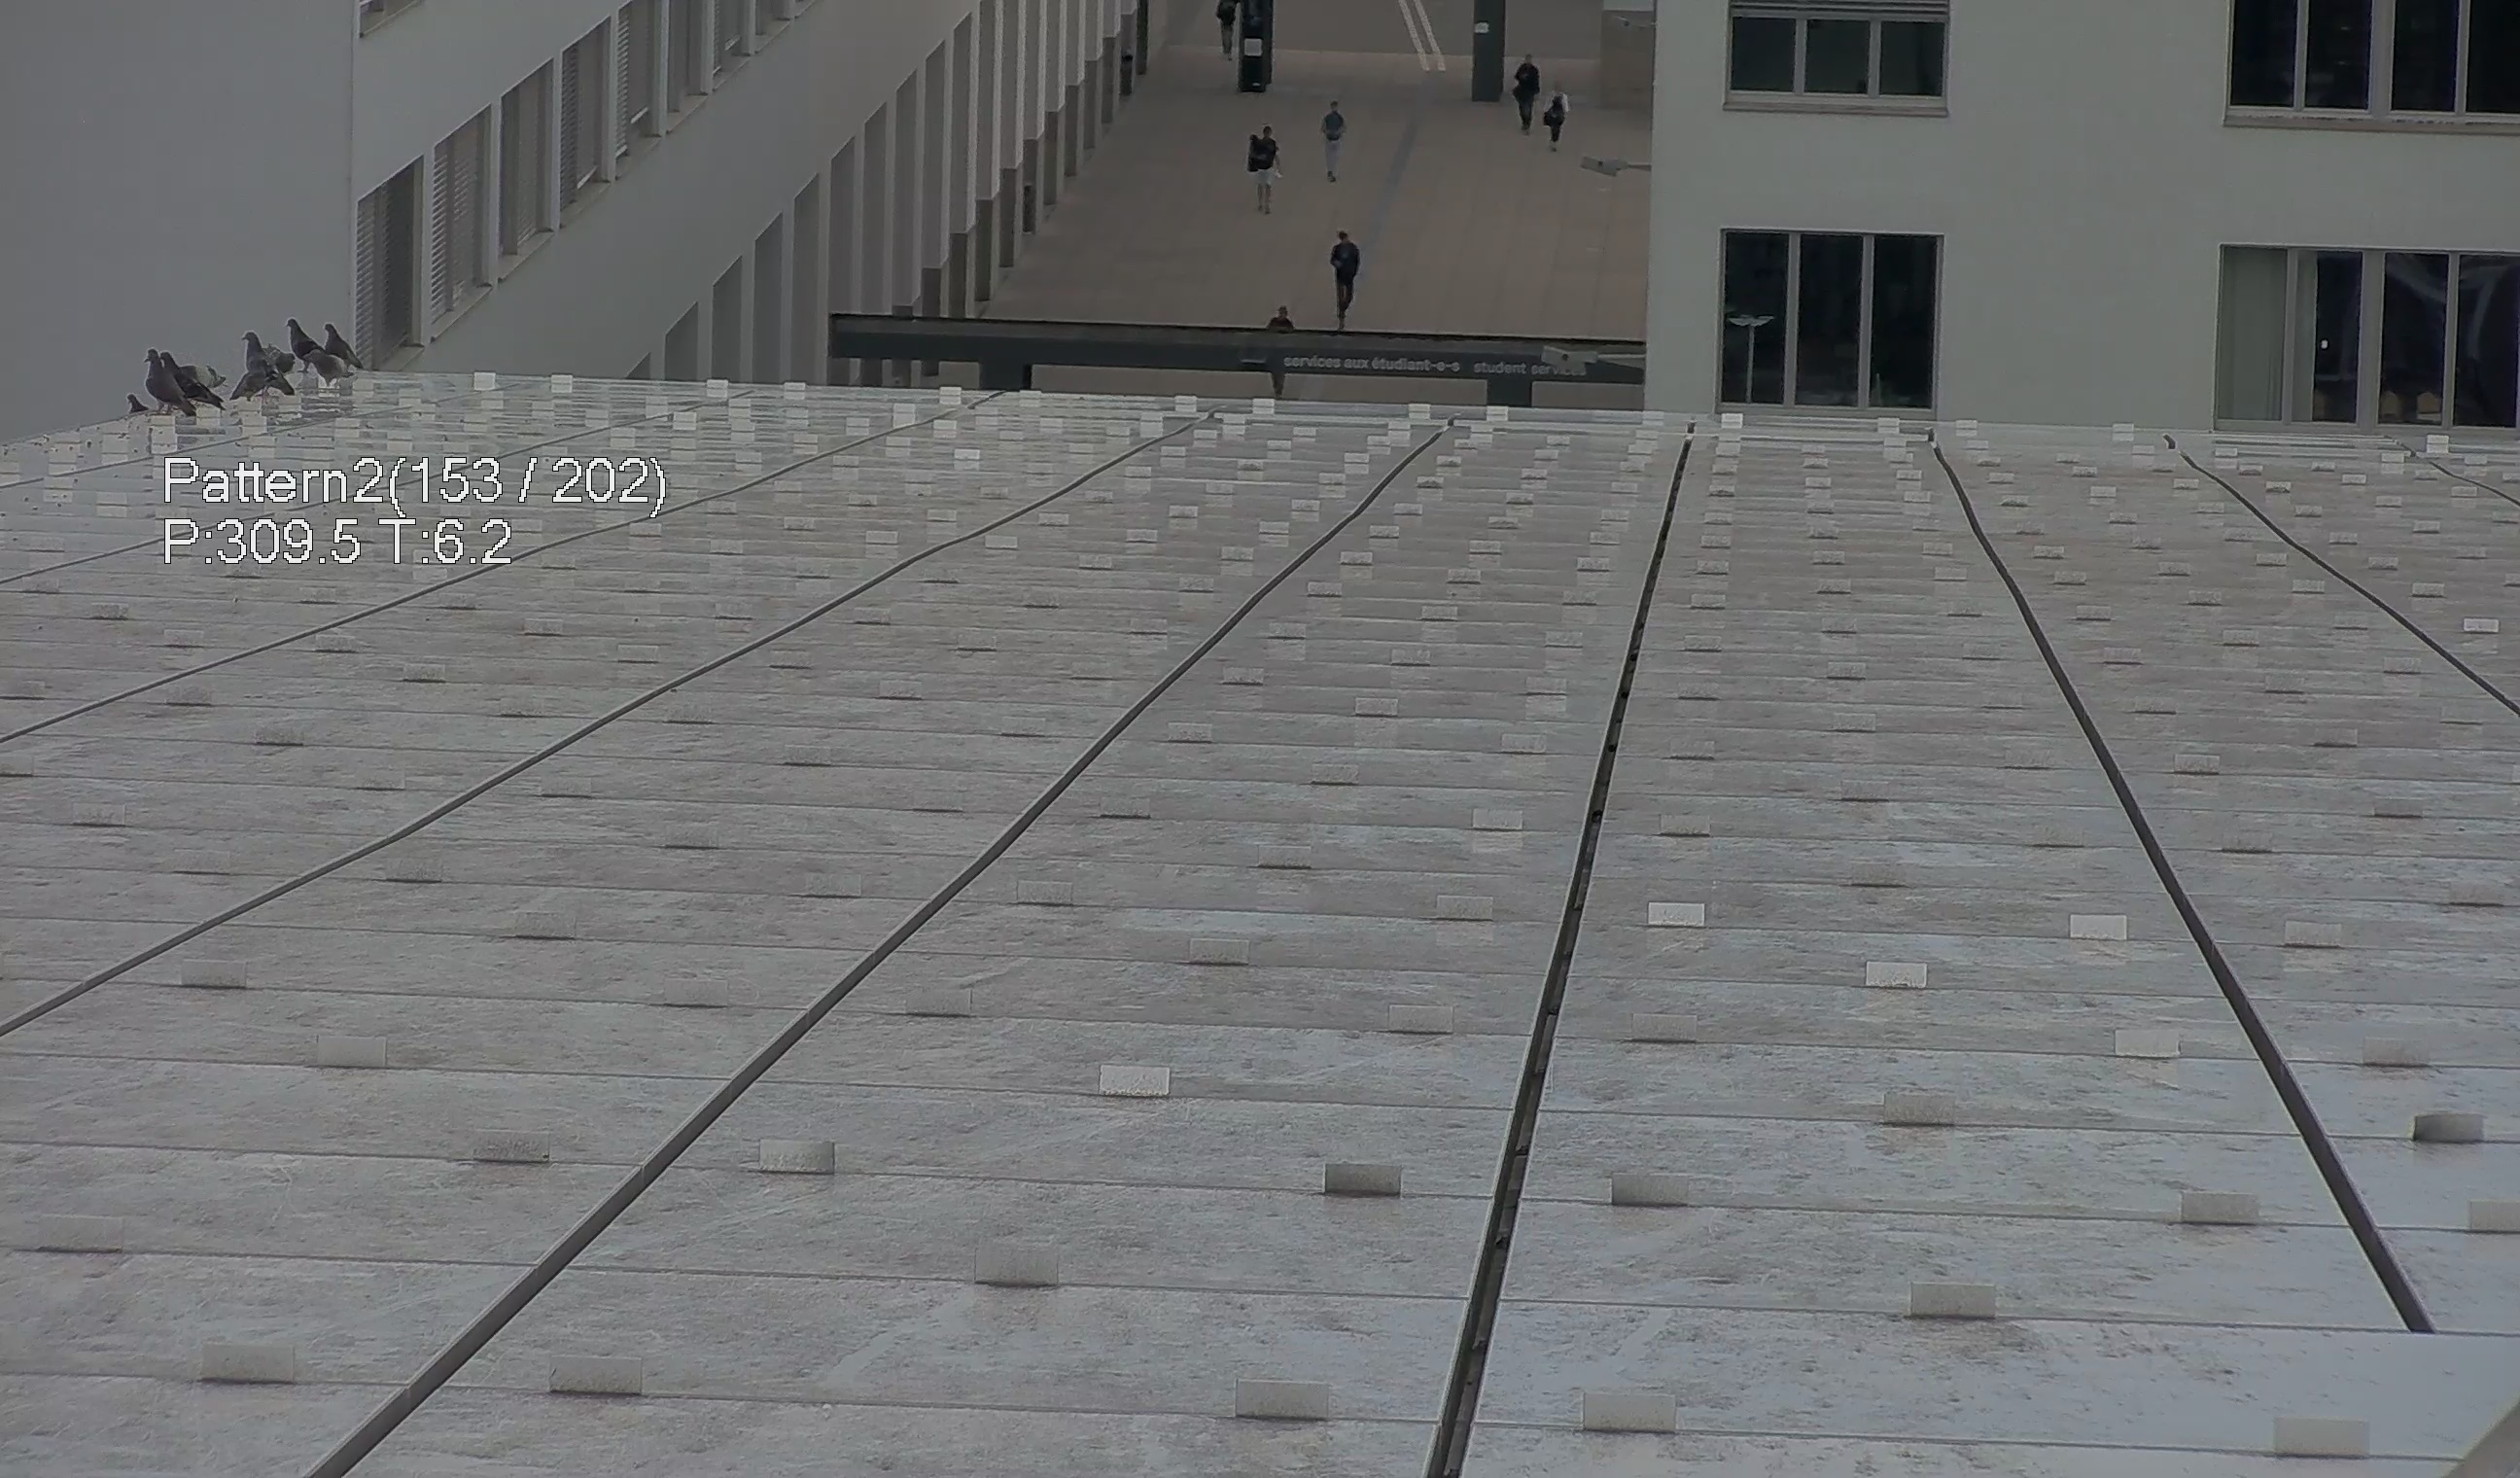Pigeon: (141, 338, 199, 419), (237, 329, 288, 399), (157, 350, 209, 403), (301, 348, 357, 387), (325, 322, 366, 373), (287, 317, 331, 362), (273, 345, 299, 380), (121, 391, 149, 415)
